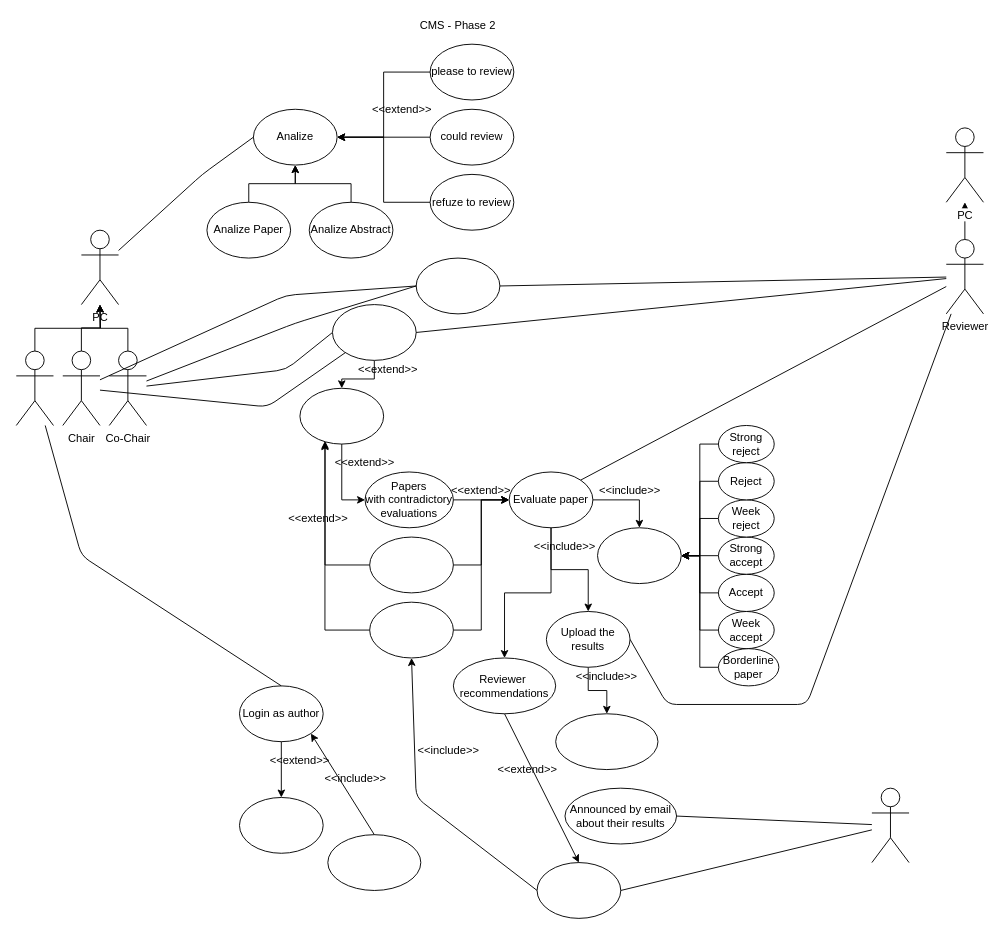
The diagram is 1004 pixels wide and 935 high, and some of its shapes have lost their labels. The shapes that lost their labels are listed below. From the top down, each one's centre as x and y in pixels, then its label:
At (457,285): "Assign papers required to be evaluated".
At (374,332): "new evaluation".
At (34,387): "Other".
At (341,415): "Closer evaluation".
At (411,564): "Rejected papers".
At (639,555): "Result of the review".
At (411,629): "Accepted papers".
At (606,741): "See the evaluations by other reviewers".
At (281,825): "Submit proposals".
At (890,825): "Author".
At (374,862): "Not seeing the reviewers or comments".
At (578,890): "Improve papers".
